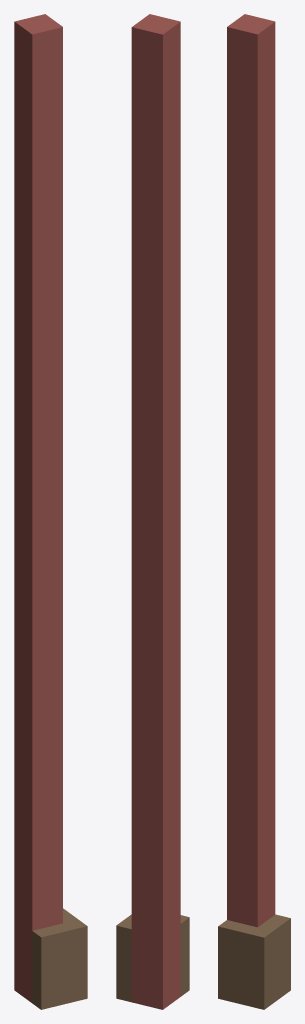
File: Mesh_WallBaseboard_C6.fbx
The picture shows the model from 3 angles, left to right: view 1: azimuth 30°, elevation 25°; view 2: azimuth 150°, elevation 25°; view 3: azimuth 330°, elevation 25°; orthographic projection.
Visible parts, largest first — view 1: Mesh_WallBaseboard_C6; view 2: Mesh_WallBaseboard_C6; view 3: Mesh_WallBaseboard_C6.
Boxes of the visible parts, x1,y1,x2,y2 form: Mesh_WallBaseboard_C6: [14, 14, 87, 1009]; Mesh_WallBaseboard_C6: [116, 14, 189, 1009]; Mesh_WallBaseboard_C6: [218, 14, 290, 1009].
Size of the model in its own units: 0.15 by 3 by 0.15.
